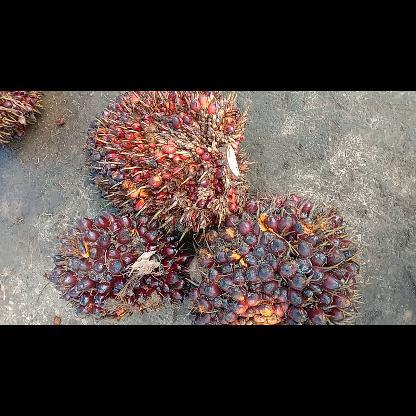Kurang masak: (188, 194, 360, 324), (47, 214, 190, 318)
TBS masak: (84, 91, 245, 229)
